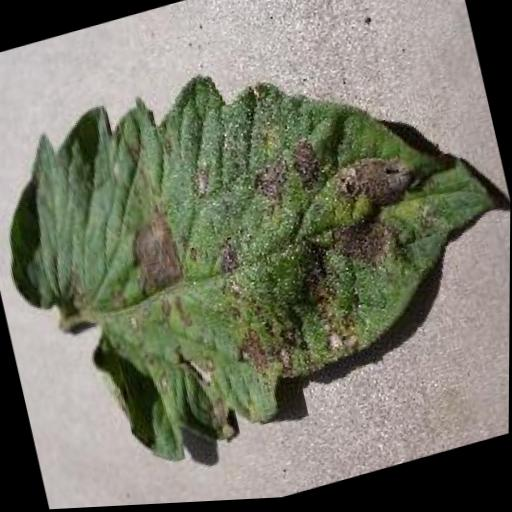Early Blight: (0, 2, 512, 497)
